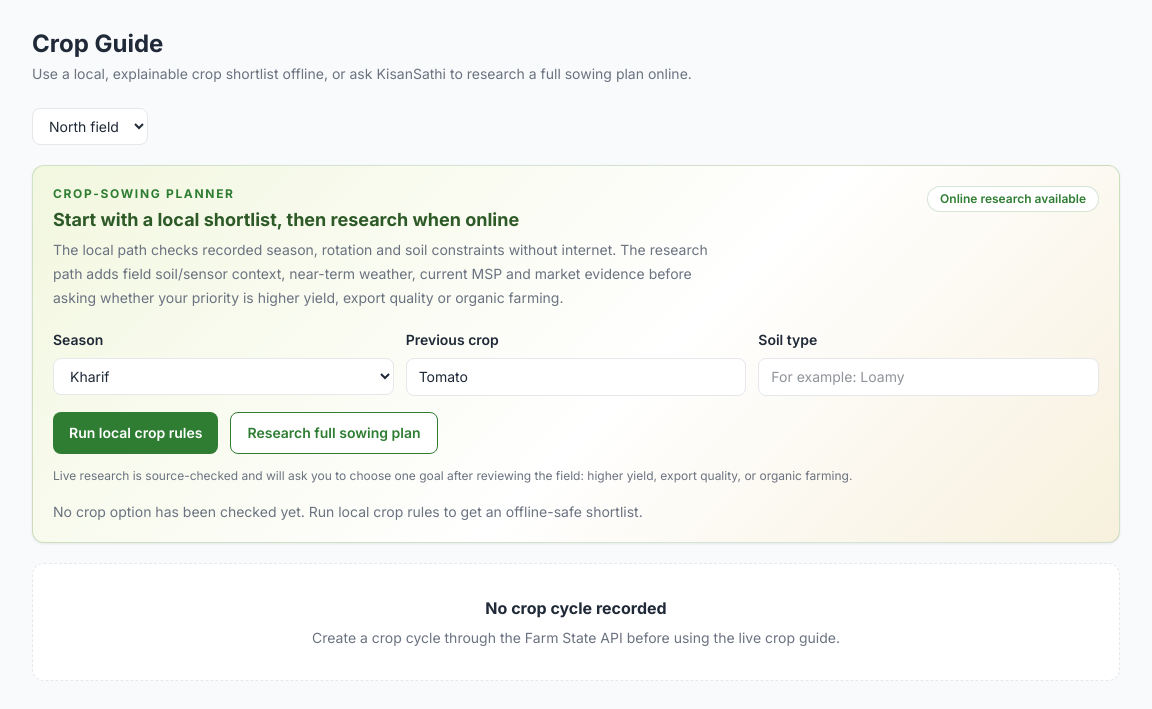
Test: CropGuide › shows sourced evidence without presenting a crop as an automatic choice
The image size is (1152, 709).
What coordinates should you click on to do the following:
click the button "Run local crop rules"
I would click on:
 (136, 433)
Its box is [53,412,218,454].
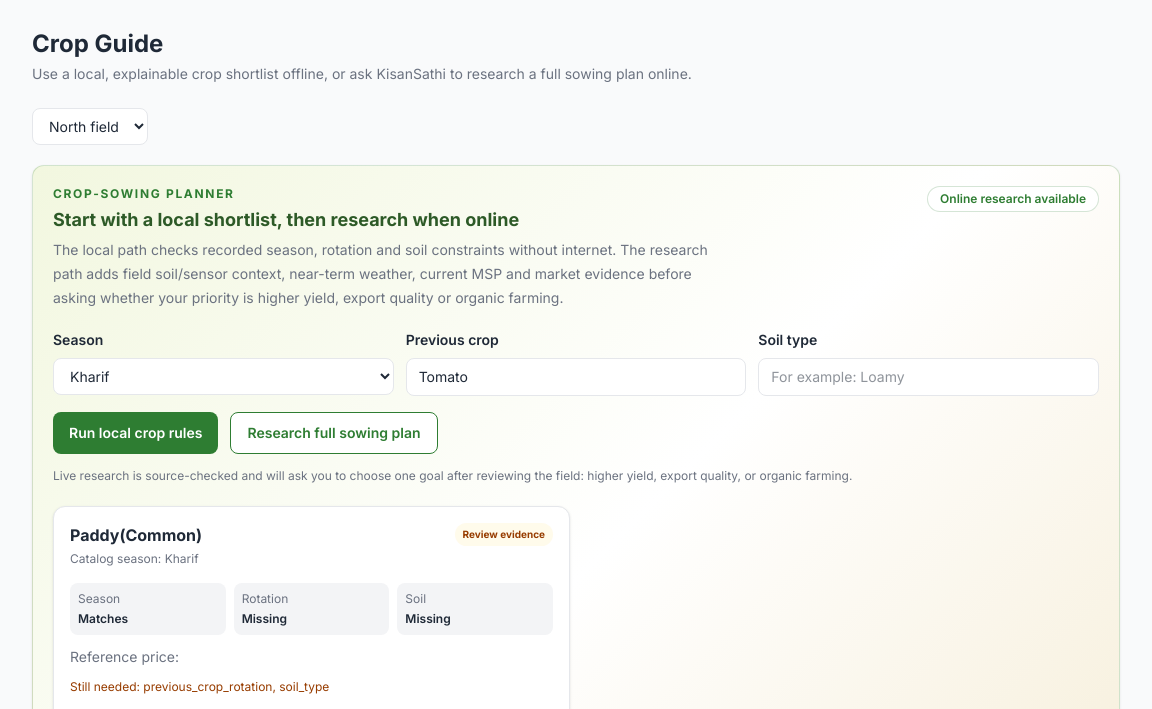
Expected: the text "Online research available" is shown, [927,186,1099,212]
Now the heading "Paddy(Common)" is shown, box [70,523,202,547]
Now the text "Still needed: previous_crop_rotation, soil_type" is shown, box [70,679,329,694]
